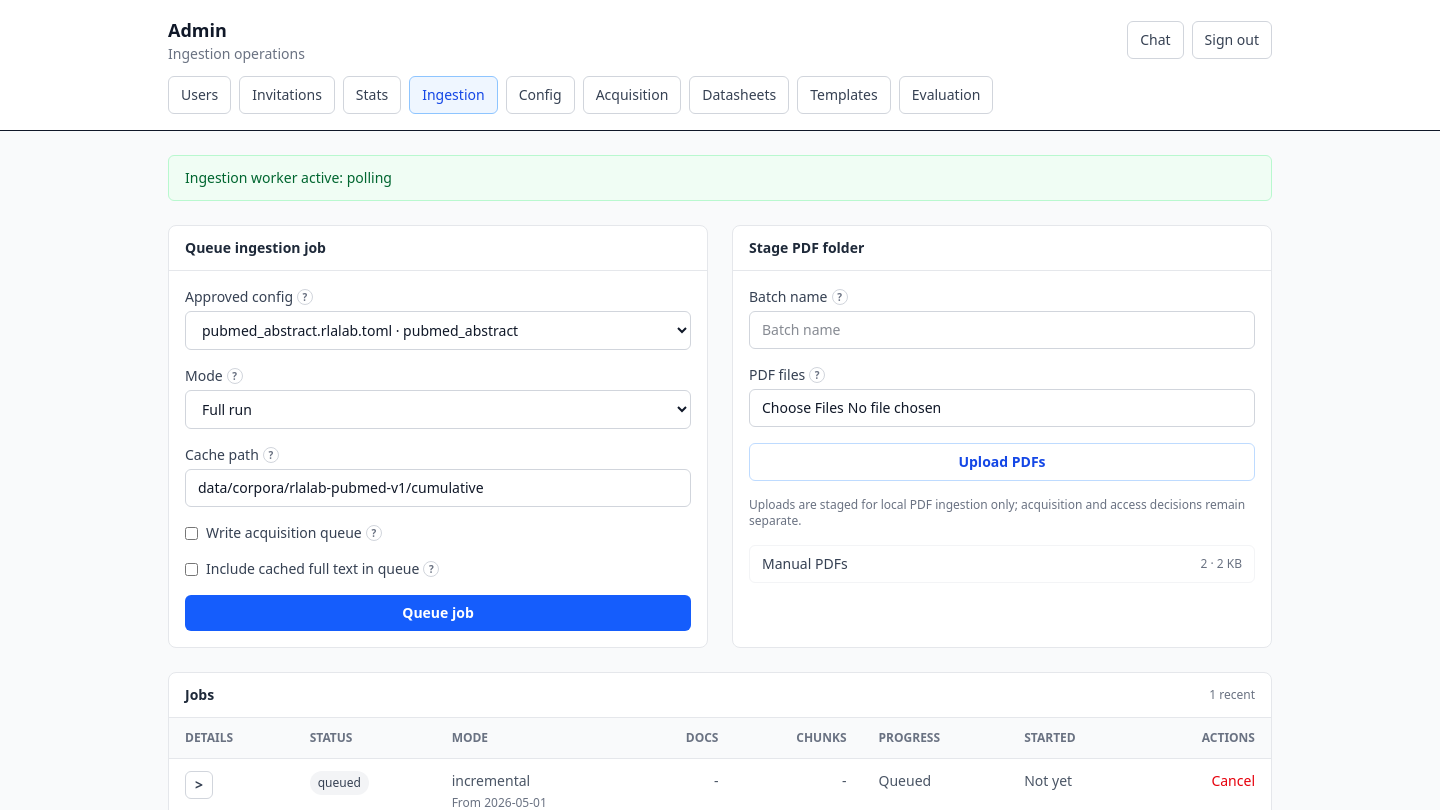
Scenario: AdminIngestionClient › cancels a queued job from the job table
The image size is (1440, 810).
Expected: the text "queued" is shown, top-left (318, 774), bottom-right (361, 791)
Click the button "Cancel" at (1233, 781), box top-left (1211, 771), bottom-right (1255, 791)
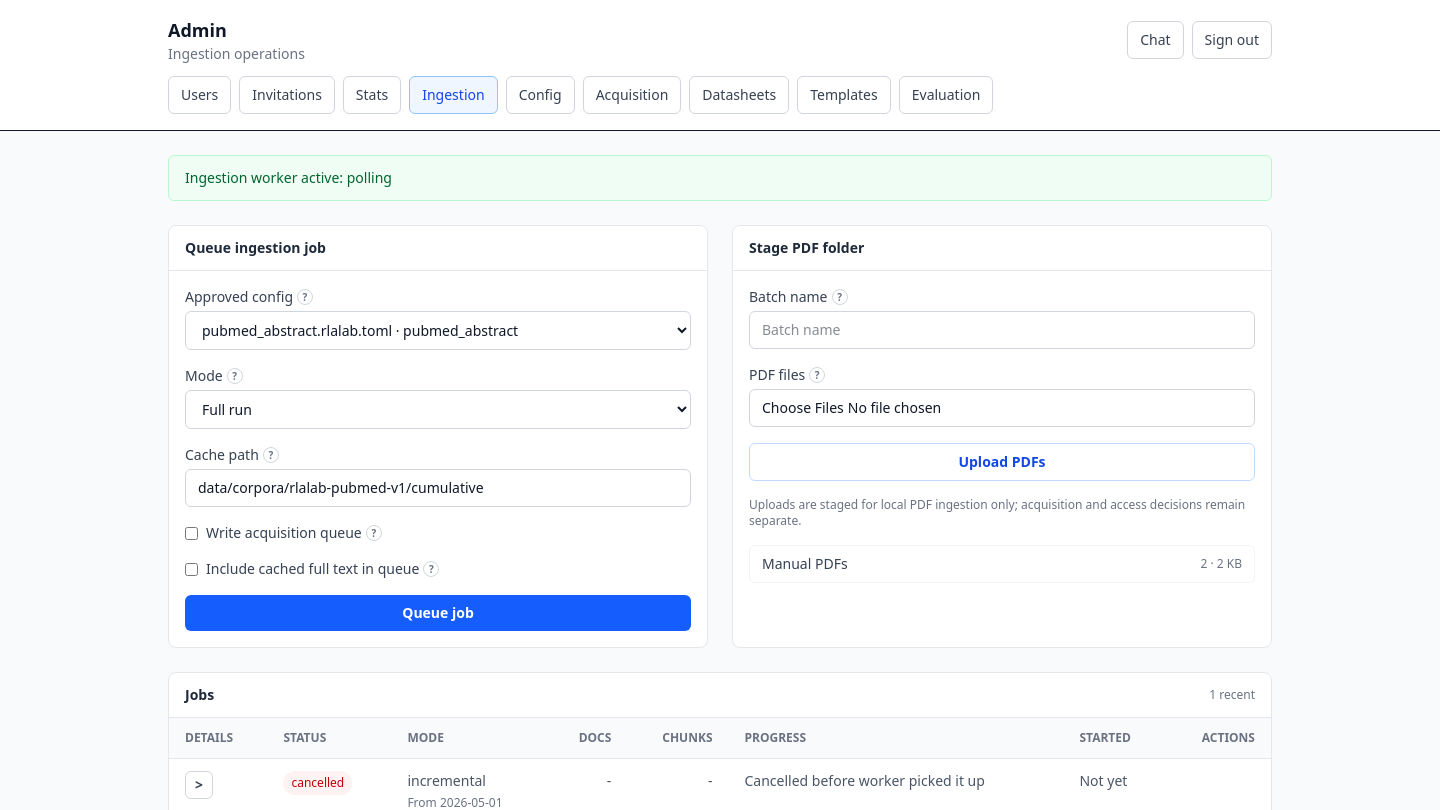
Now the text "cancelled" is shown, box top-left (284, 771), bottom-right (352, 795)
